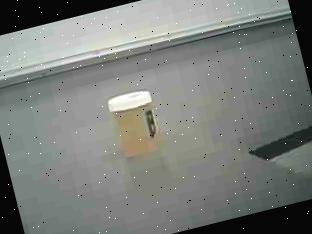Bottle B: (104, 83, 176, 167)
